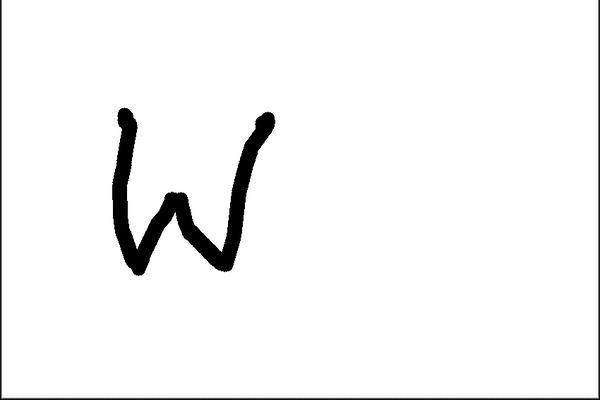w: (90, 98, 287, 297)
